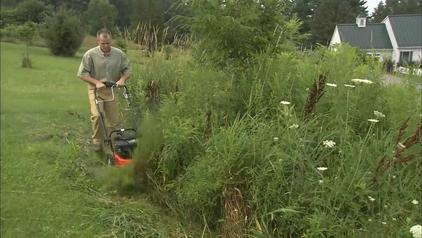down: (299, 69, 328, 124)
sit: (299, 69, 328, 124)
